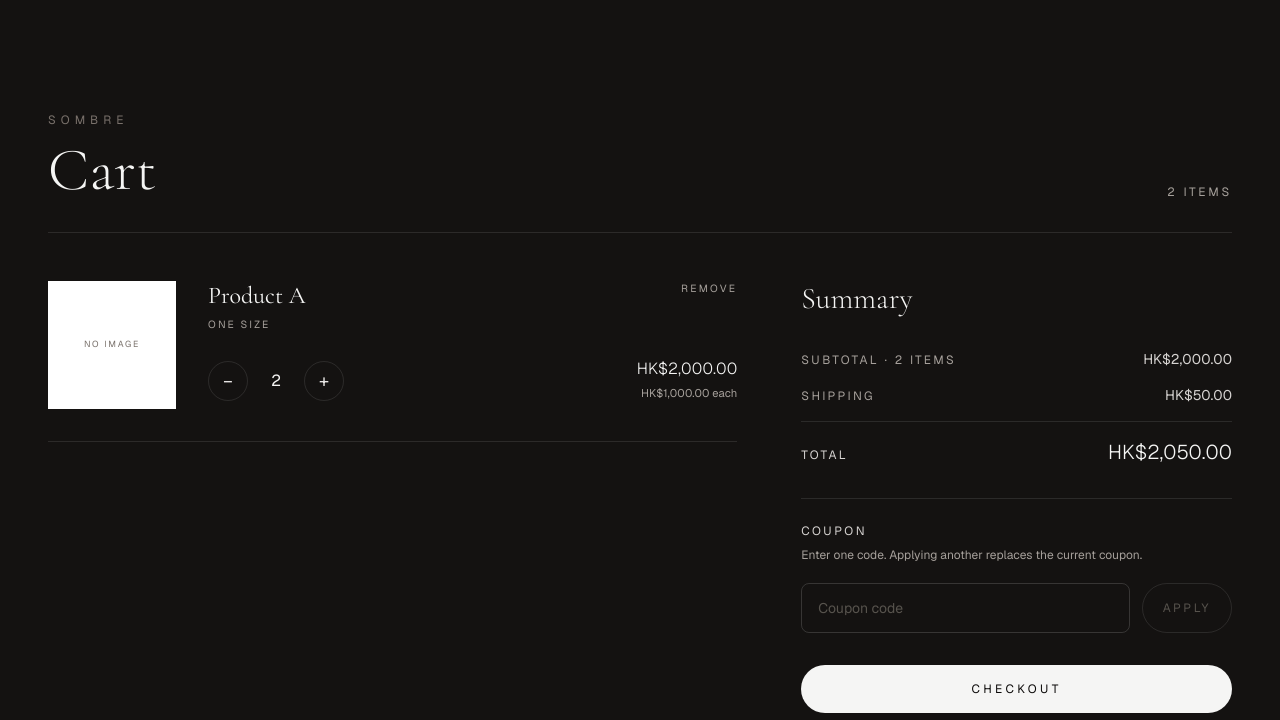
Test: Cart coupon interface › renders the coupon form on cart and stores only the normalized code
In the field labelled "Coupon code": (965, 608) top-left (801, 583), bottom-right (1130, 633), type "  sombre  "
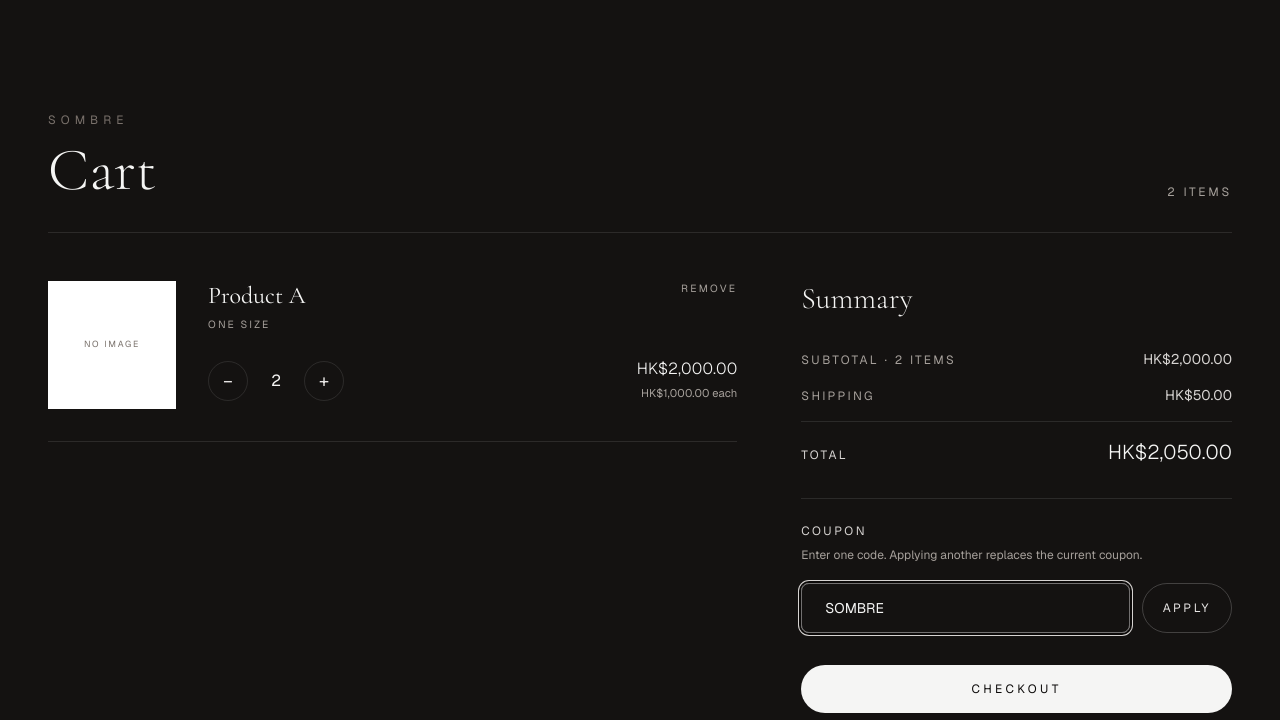
Click the button "Apply": (1187, 608) top-left (1142, 583), bottom-right (1232, 633)
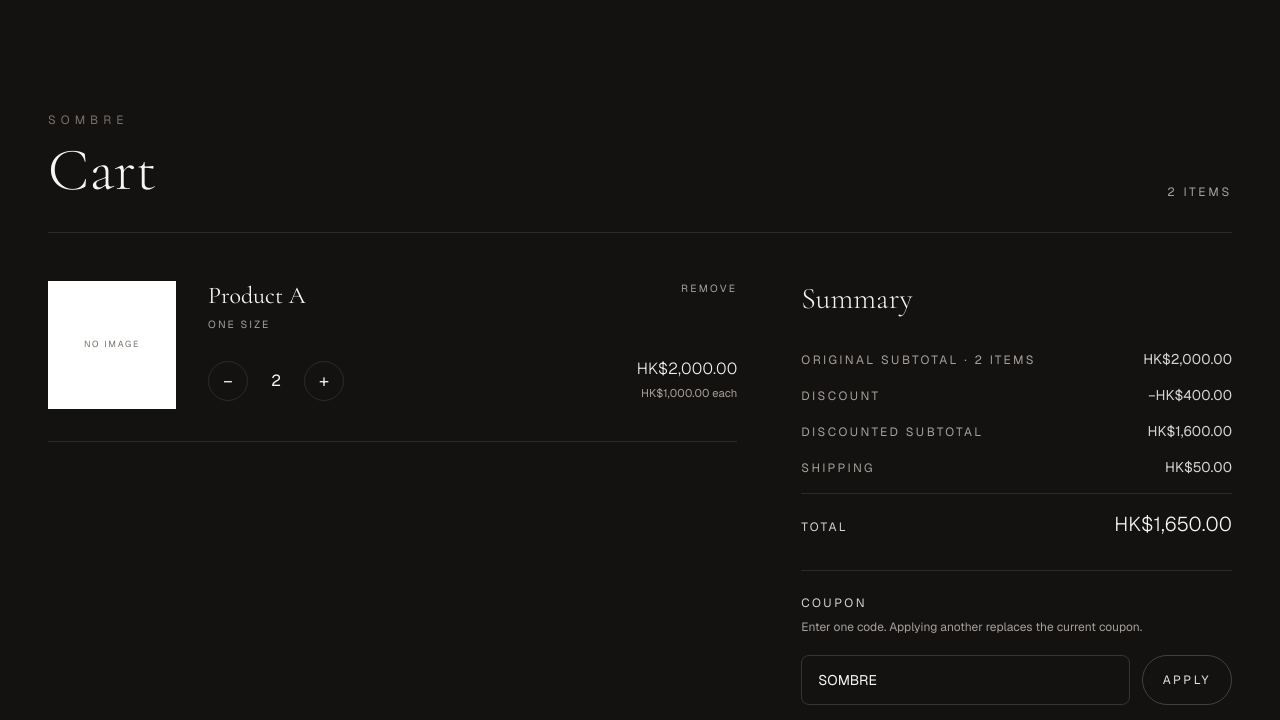
Expected: the text "Original subtotal · 2 items" is shown, top-left (801, 352), bottom-right (1036, 368)
Expected: the text "Discounted subtotal" is shown, top-left (801, 424), bottom-right (984, 440)
Expected: the text "HK$1,650.00" is shown, top-left (1114, 510), bottom-right (1232, 538)
